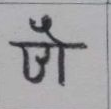au_matra: (40, 17, 72, 81)
